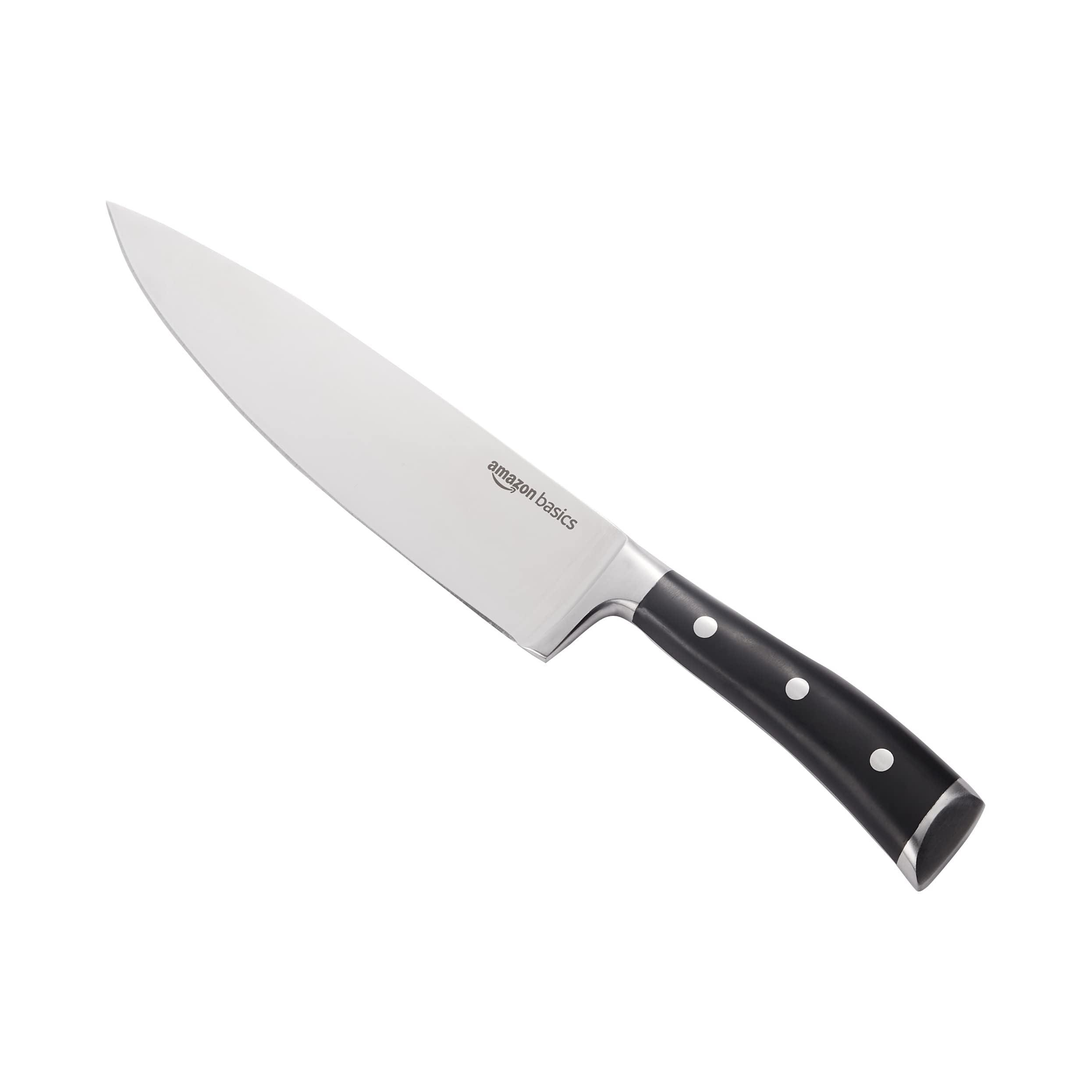Knife: (101, 194, 991, 899)
